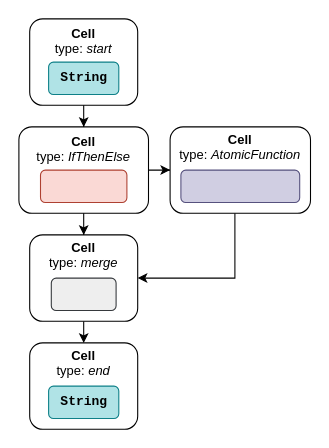
Image size: 329x448. Some labels were removed from this diagram. The centre of each missing label's shape, as x and y in pixels:
AtomicFunction: the point at 240,185
IfThenElse: the point at 83,185
null: the point at 83,293
